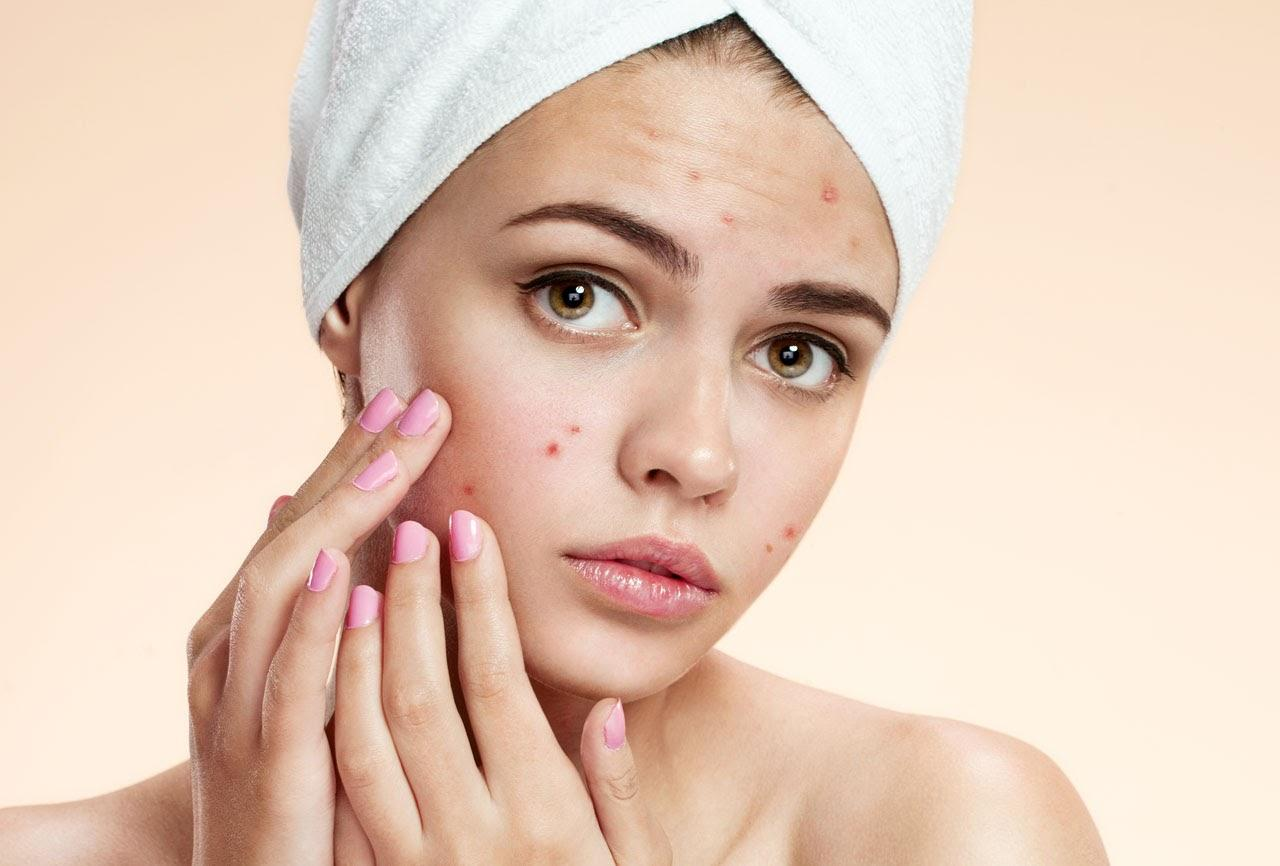Acne: (635, 115, 875, 253), (454, 408, 586, 503), (761, 513, 800, 566)
